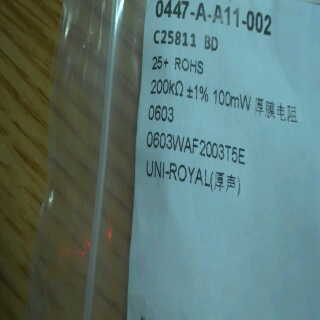200kR: (148, 75, 187, 98)
